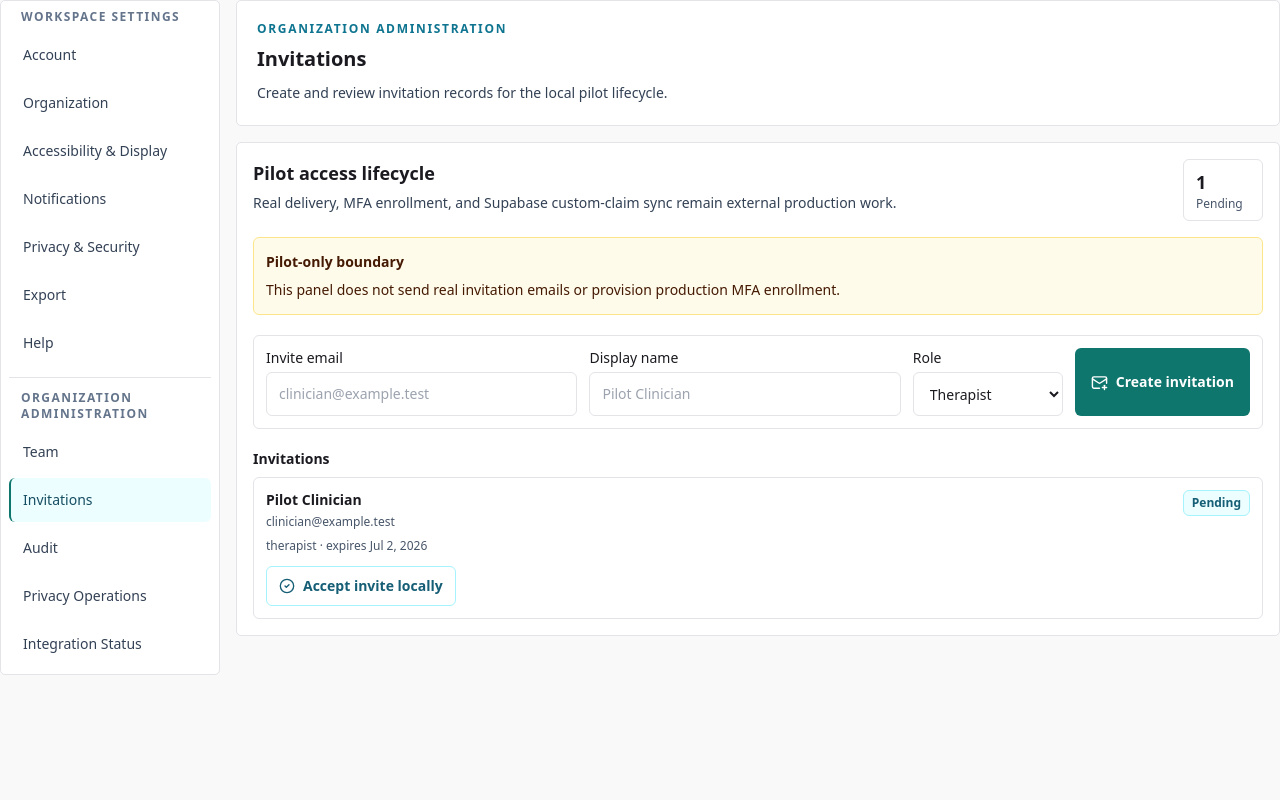
SettingsWorkspaceClient admin lifecycle UX › accepts an invitation, refreshes memberships, and prepares an aal1 invited session
Click the button "Accept invite locally": point(361, 586) 266,566 -> 456,606
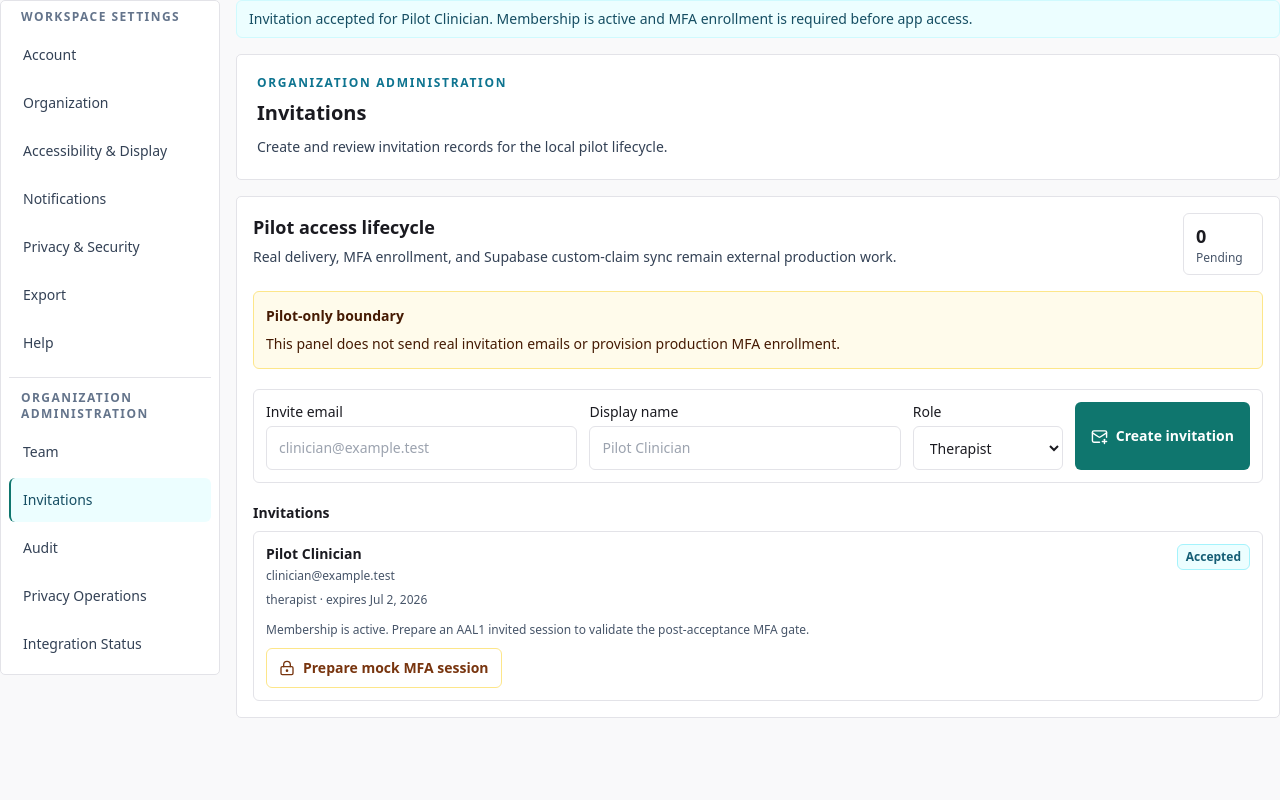
Expected: the heading "Pilot Clinician" is shown, 266,544 -> 362,563
Expected: the button "Prepare mock MFA session" is shown
Expected: the text "Membership is active. Prepare an AAL1 invited session to validate the post-acceptance MFA gate." is shown, 266,621 -> 809,638
Click the button "Prepare mock MFA session": point(384, 668) 266,648 -> 502,688
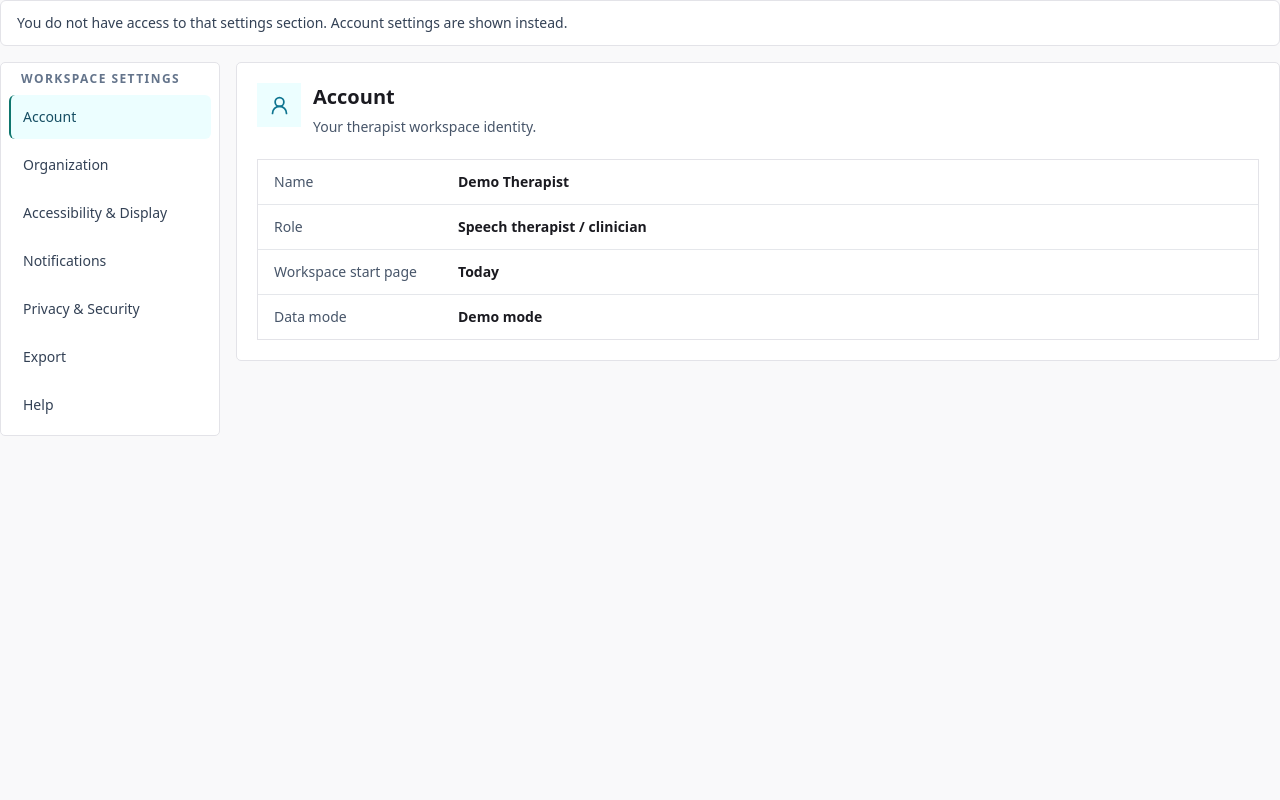
Expected: the heading "Account" is shown, 313,83 -> 395,110
Expected: the link "Team" is gone
